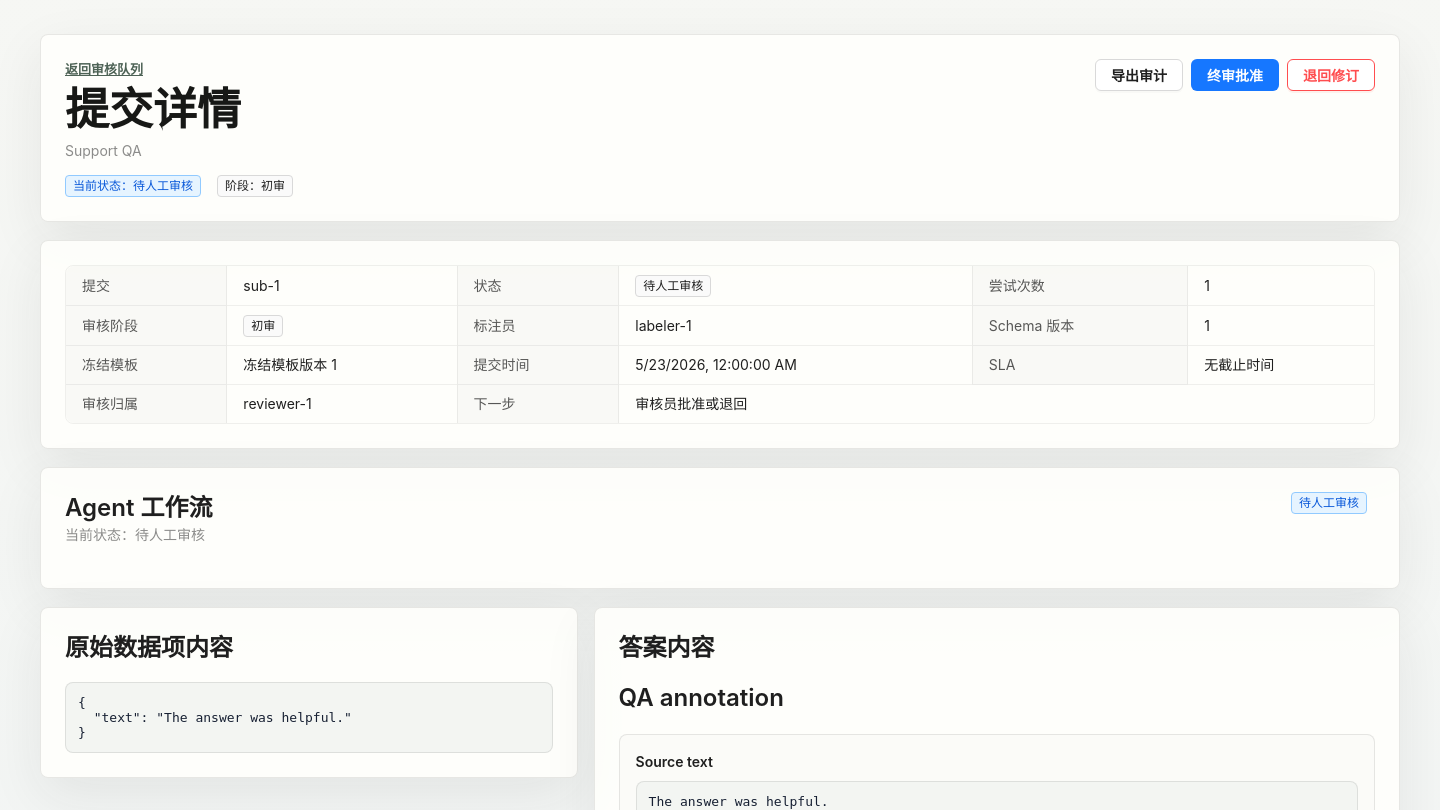
Scenario: reviewer workspace › refreshes persisted audit after return without fabricating a local timeline event
Click the button "退回修订".
click(1331, 75)  # box [1287, 59, 1375, 91]
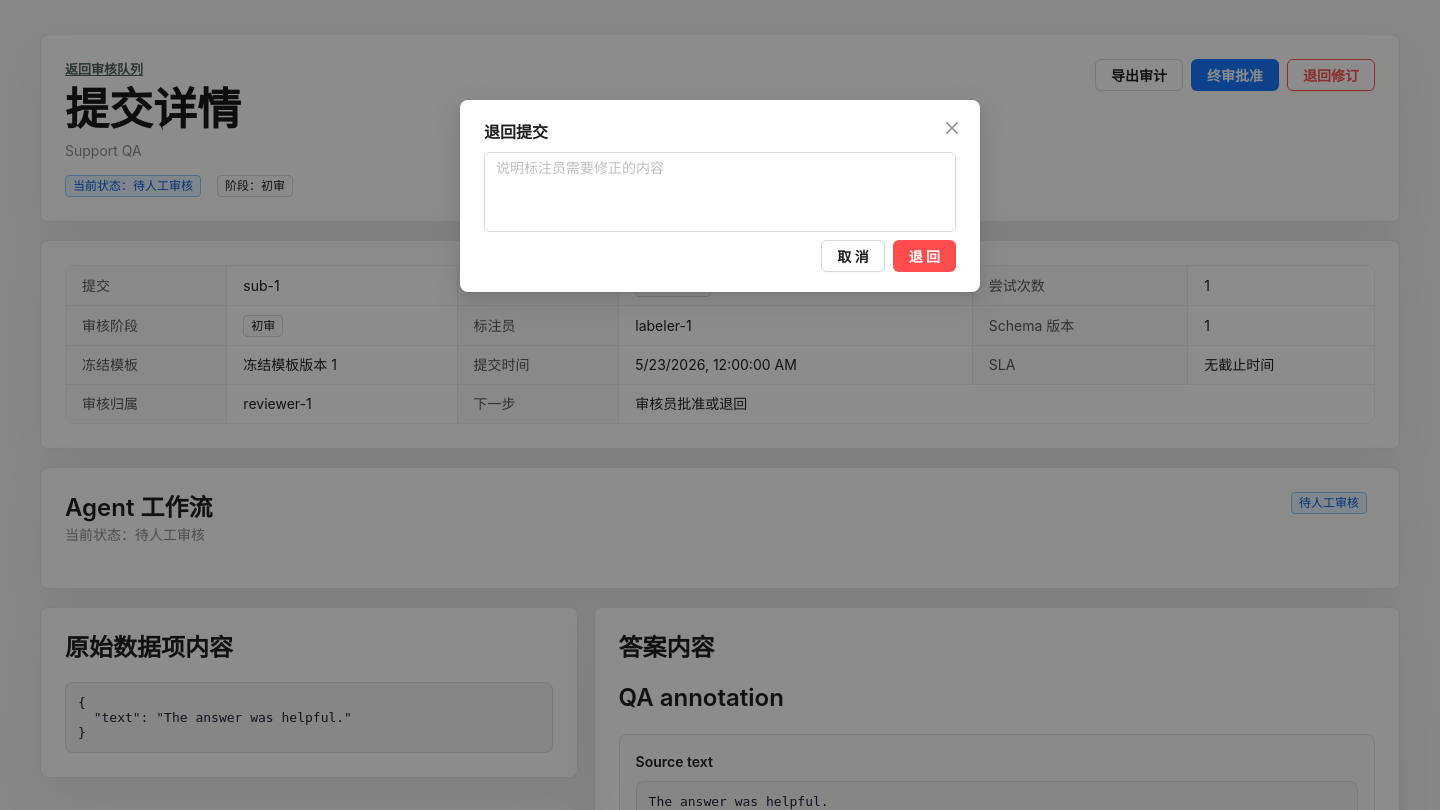
Type "Needs clearer evidence." into the text box named "退回原因".
click(720, 192); type("Needs clearer evidence.")  # box [484, 152, 956, 232]
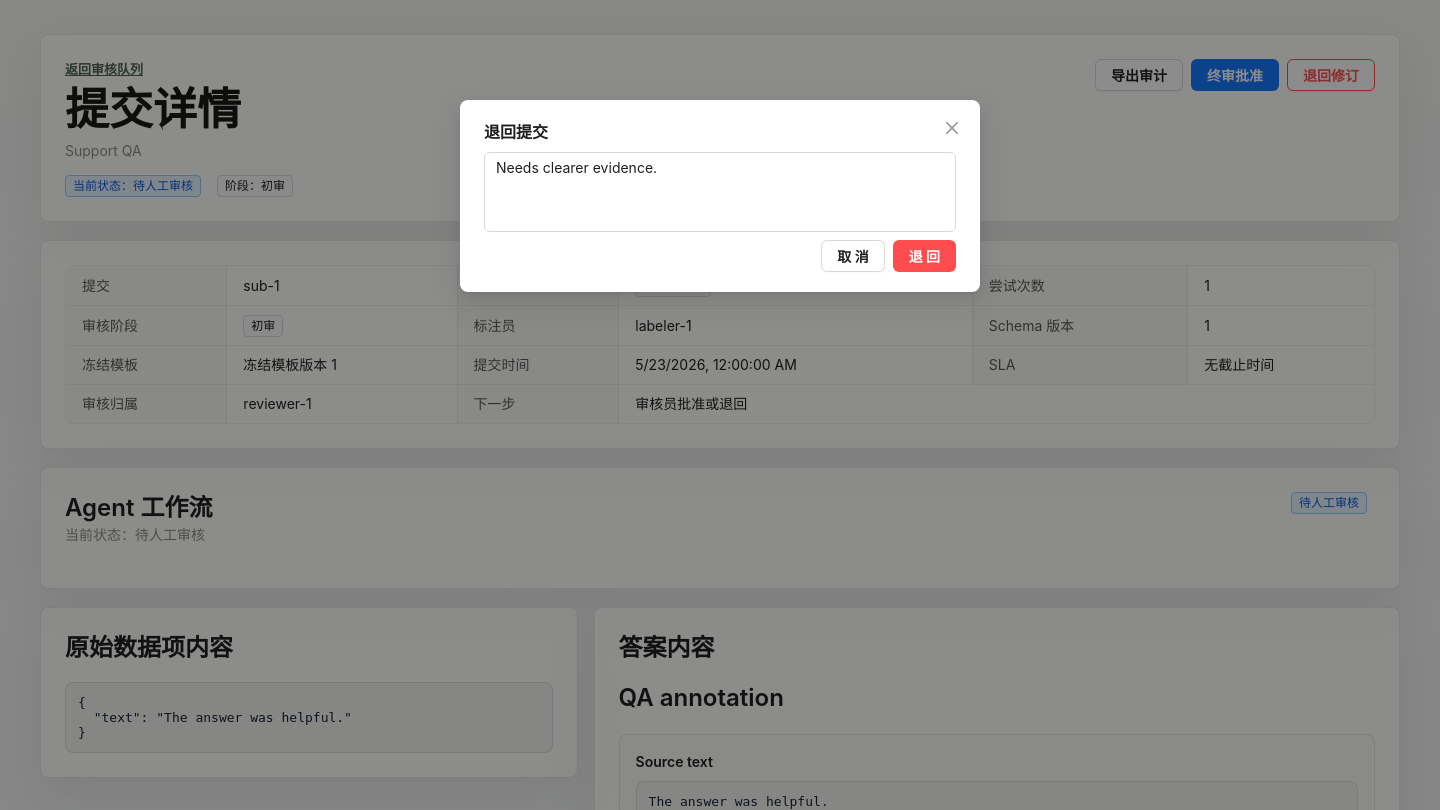
Click the button "退 回".
click(924, 256)  # box [893, 240, 956, 272]
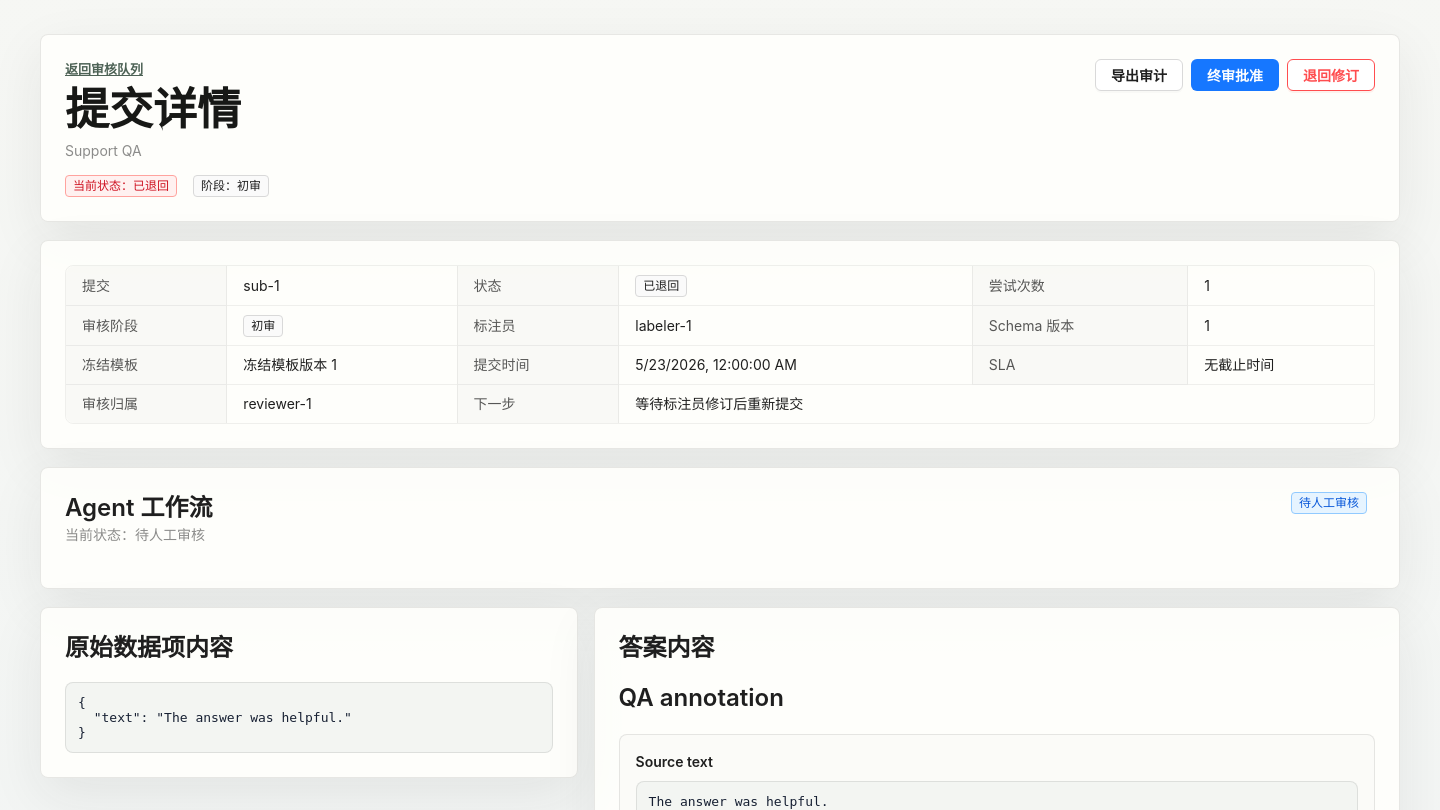
Now the text "已退回" is shown, box [635, 275, 687, 297]
